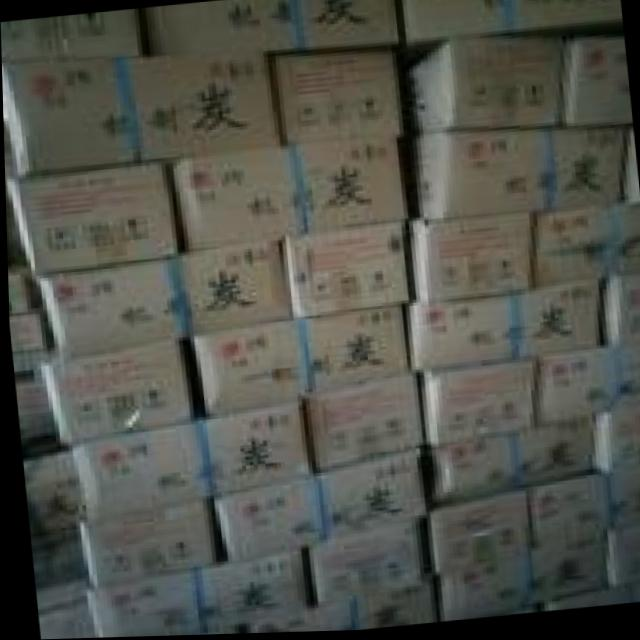box: (1, 51, 279, 175), (65, 400, 313, 523), (5, 161, 180, 272), (407, 285, 598, 372), (28, 256, 188, 358), (34, 338, 184, 446), (167, 149, 306, 253), (425, 417, 589, 504), (408, 42, 561, 135), (153, 0, 398, 56), (271, 56, 407, 150), (72, 499, 213, 589), (414, 131, 550, 220), (188, 319, 310, 418), (283, 227, 407, 322), (310, 375, 420, 475), (417, 360, 536, 451), (291, 140, 407, 233), (180, 238, 291, 334), (414, 218, 530, 306), (526, 205, 640, 294), (401, 0, 622, 45), (295, 306, 405, 396), (305, 524, 421, 609), (314, 450, 423, 538), (426, 491, 531, 578), (210, 478, 320, 561), (194, 547, 303, 629), (535, 348, 640, 428), (82, 568, 199, 638), (542, 130, 628, 214), (1, 9, 138, 60), (558, 39, 632, 129), (436, 557, 532, 623), (525, 474, 604, 554), (527, 541, 609, 606), (20, 454, 80, 534), (588, 390, 640, 480), (603, 275, 640, 348), (602, 472, 640, 538), (600, 531, 640, 593)
